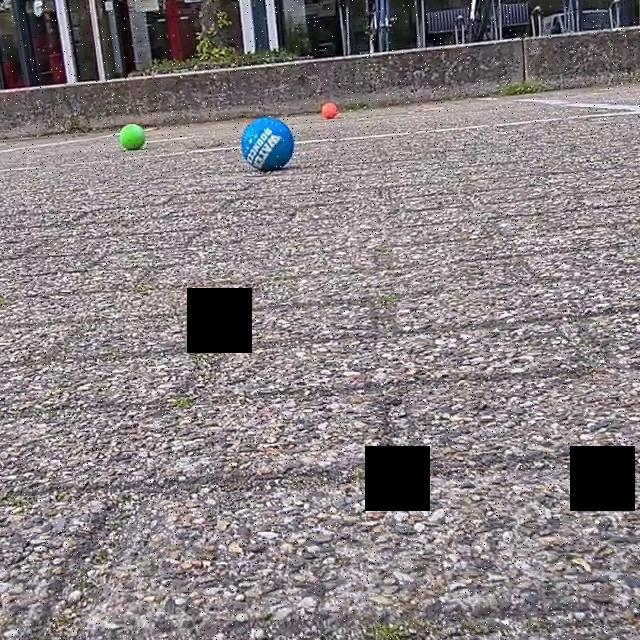ball: (118, 119, 148, 153)
